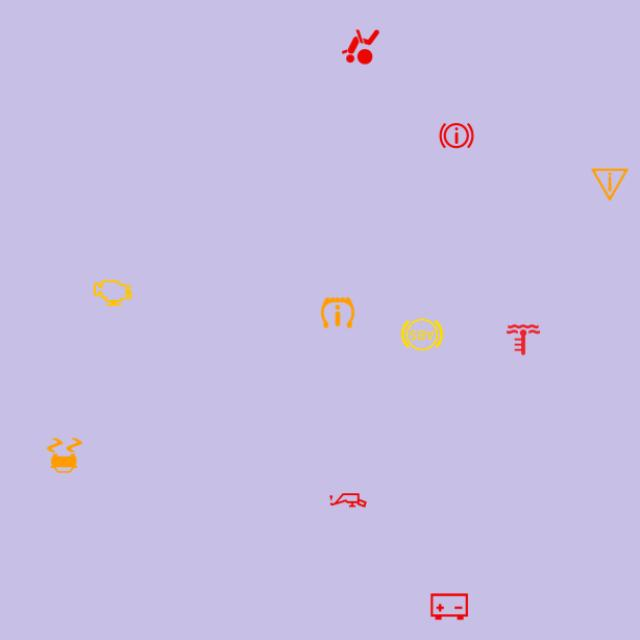Anti Lock Braking System: (399, 312, 445, 358)
Braking System Issue: (434, 112, 479, 158)
Charging System Issue: (427, 584, 472, 630)
Check Engine: (90, 270, 136, 316)
Electronic Stability Problem -ESP-: (42, 432, 88, 478)
Engine Overheating Warning Light: (501, 317, 546, 363)
Low Engine Oil Warning Light: (325, 478, 371, 524)
Low Tire Pressure Warning Light: (314, 290, 360, 336)
Master warning light: (587, 162, 633, 208)
SRS-Airbag: (338, 24, 383, 70)
